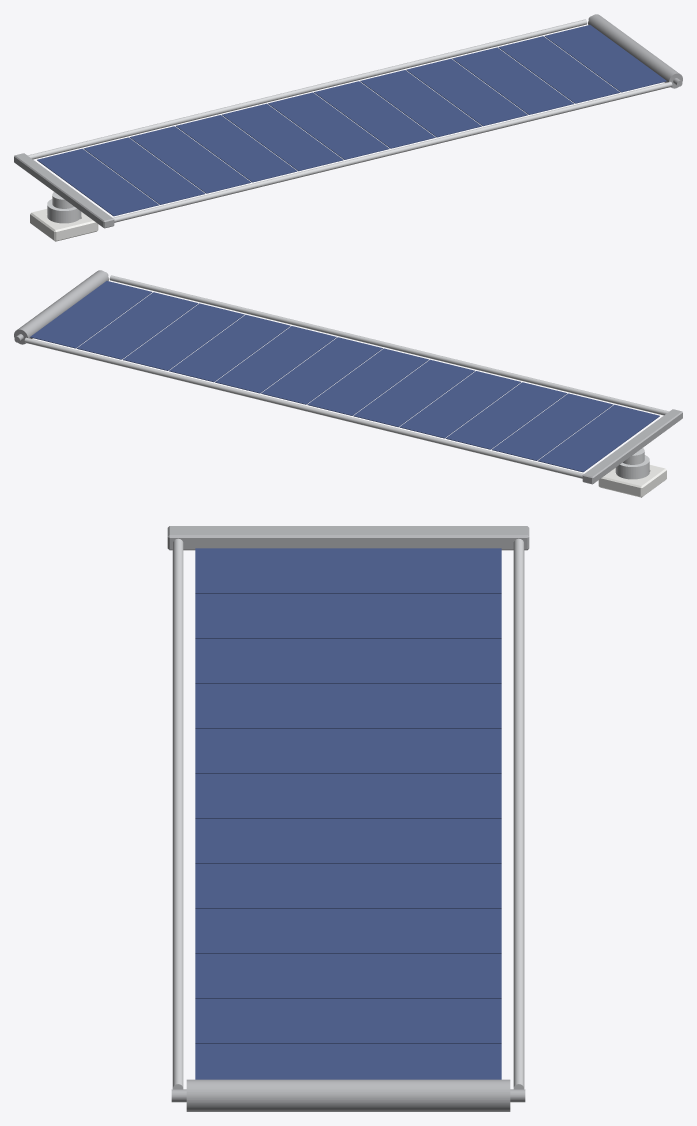
The model's file is ax_power_01_roll_out_array_m_deployed.glb.
The picture shows the model from 3 angles, top to bottom: view 1: azimuth 30°, elevation 25°; view 2: azimuth 150°, elevation 25°; view 3: azimuth 270°, elevation 25°; orthographic projection. The views are drawn at different scales.
Parts seen in each view (by area): view 1: panel_blanket, boom_1, boom_2, yoke, panel_roll, mount_block, gimbal; view 2: panel_blanket, boom_2, boom_1, yoke, panel_roll, mount_block, gimbal; view 3: panel_blanket, panel_roll, yoke, boom_1, boom_2.
Part boxes in pixels (box(x1,y1,x2,y2)): panel_blanket: box(37, 25, 666, 216); boom_1: box(113, 81, 672, 222); boom_2: box(27, 19, 587, 159); yoke: box(14, 153, 114, 228); panel_roll: box(588, 14, 682, 88); mount_block: box(30, 209, 98, 241); gimbal: box(47, 192, 81, 223); panel_blanket: box(30, 281, 659, 472); boom_2: box(24, 337, 583, 478); boom_1: box(109, 275, 669, 415); yoke: box(582, 409, 682, 484); panel_roll: box(14, 270, 108, 344); mount_block: box(598, 465, 666, 497); gimbal: box(615, 448, 649, 479); panel_blanket: box(195, 548, 501, 1079); panel_roll: box(171, 1079, 525, 1111); yoke: box(167, 526, 529, 550); boom_1: box(172, 538, 183, 1089); boom_2: box(513, 538, 524, 1089).
Size of the model in its own units: 6.51 by 0.46 by 1.7.
